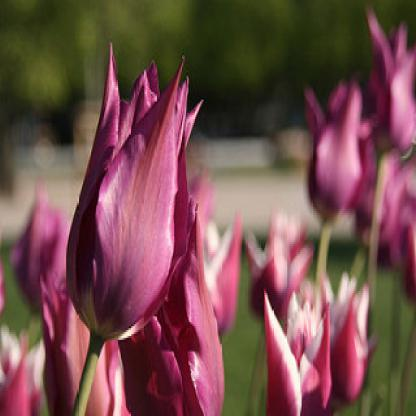TULIP: (88, 21, 404, 394)
